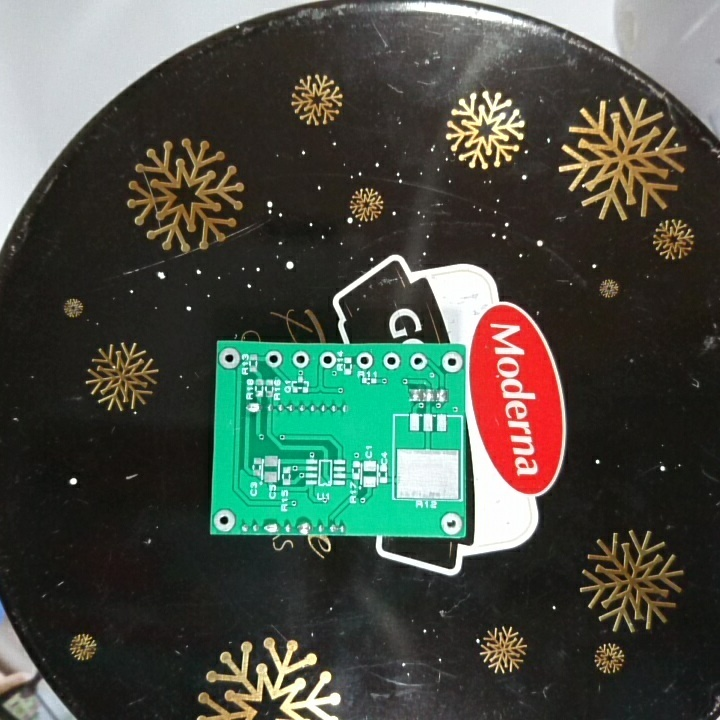F: (212, 507, 239, 532), (438, 509, 463, 535), (217, 347, 242, 372), (441, 349, 463, 375), (379, 351, 403, 371), (263, 348, 285, 369), (354, 350, 377, 370), (317, 349, 337, 370), (291, 350, 311, 370), (408, 352, 427, 373)
P: (243, 400, 262, 417), (262, 520, 279, 536), (294, 519, 311, 534)
